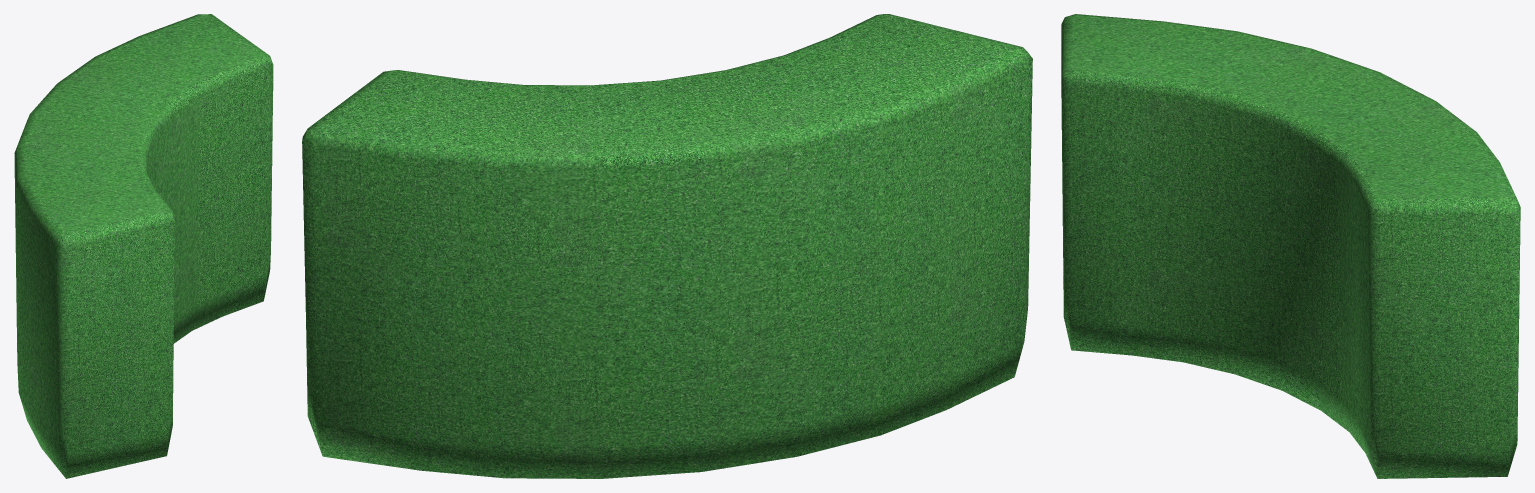
The model's file is Hedge turn 90.FBX.
The picture shows the model from 3 angles, left to right: view 1: azimuth 30°, elevation 25°; view 2: azimuth 150°, elevation 25°; view 3: azimuth 270°, elevation 25°; orthographic projection. The views are drawn at different scales.
Parts seen in each view (by area): view 1: Hedge Turn 90; view 2: Hedge Turn 90; view 3: Hedge Turn 90.
Boxes of the visible parts, left/top/right/bottom form: Hedge Turn 90: left=14, top=14, right=273, bottom=478; Hedge Turn 90: left=302, top=14, right=1032, bottom=478; Hedge Turn 90: left=1061, top=14, right=1520, bottom=478.
Size of the model in its own units: 58.69 by 39.37 by 58.6.
1 material, 1 textured.
